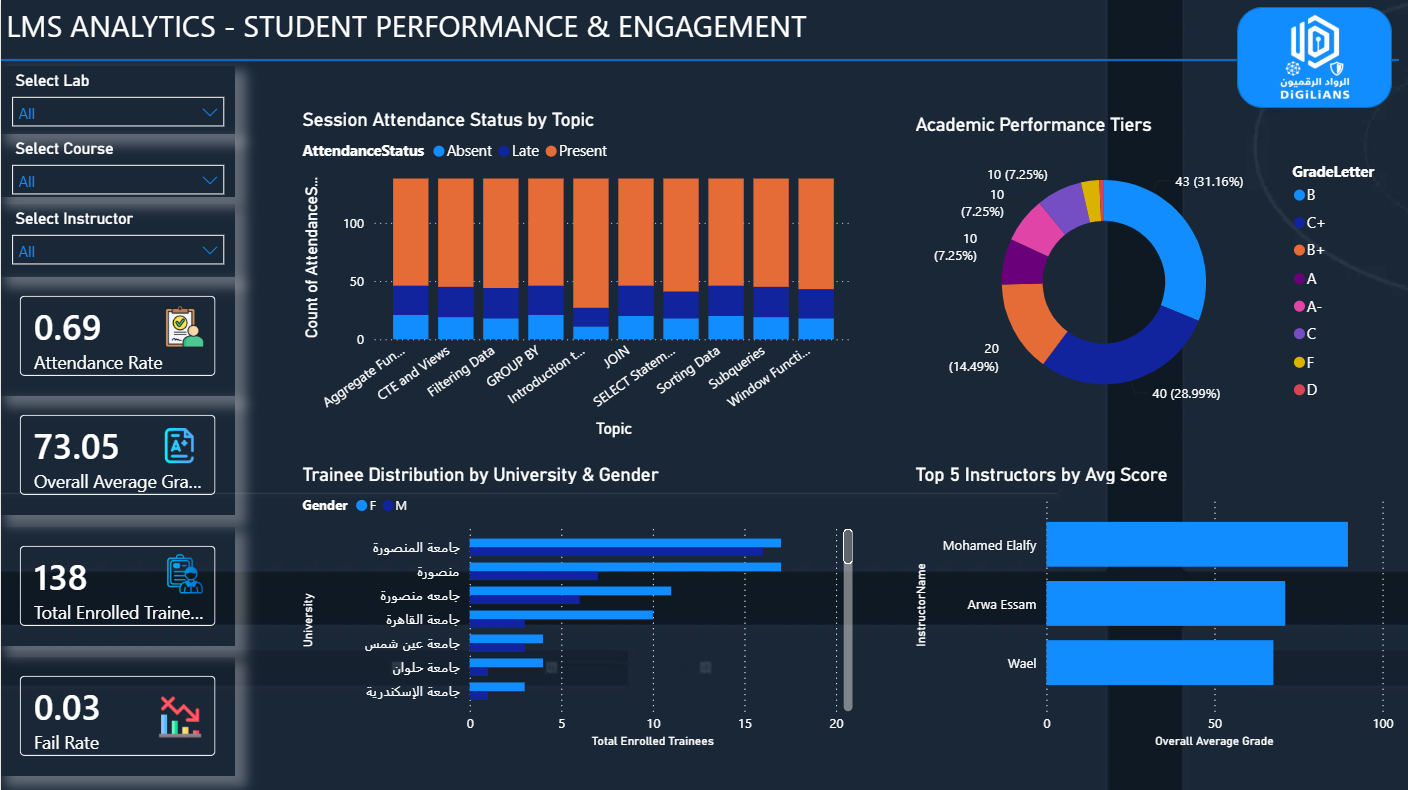

The page's visual inventory and layout, read from the dashboard file:
{"tool":"powerbi","page":{"name":"Digilians","canvas":[1280,720],"ordinal":0},"visuals":[{"type":"cardVisual","fields":{"Data":["v_TraineePerformance.Attendance Rate"]},"box":[0,251.4,212.5,107.7],"z":0},{"type":"cardVisual","fields":{"Data":["v_TraineePerformance.Overall Average Grade"]},"box":[0,360.2,212.5,107.7],"z":1000},{"type":"cardVisual","fields":{"Data":["v_TraineePerformance.Total Enrolled Trainees"]},"box":[0,478.9,212.5,107.7],"z":2000},{"type":"clusteredBarChart","title":"Trainee Distribution by University & Gender","fields":{"Series":["v_TraineePerformance.Gender"],"Category":["v_TraineePerformance.University"],"Y":["v_TraineePerformance.Total Enrolled Trainees"]},"box":[269.1,420.9,510,263.6],"z":3000},{"type":"donutChart","title":"Academic Performance Tiers ","fields":{"Y":["v_TraineePerformance.Total Enrolled Trainees"],"Category":["v_TraineePerformance.GradeLetter"]},"box":[826.4,98.2,444.5,292.7],"z":4000},{"type":"columnChart","title":"Session Attendance Status by Topic","fields":{"Category":["v_SessionAttendance.Topic"],"Y":["CountNonNull(v_SessionAttendance.AttendanceStatus)"],"Series":["v_SessionAttendance.AttendanceStatus"]},"box":[269.1,98.2,510,304.5],"z":5000},{"type":"clusteredBarChart","title":"Top 5 Instructors by Avg Score","fields":{"Category":["v_TraineePerformance.InstructorName"],"Y":["v_TraineePerformance.Overall Average Grade"]},"box":[826.4,420.9,444.5,263.6],"z":6000},{"type":"slicer","fields":{"Values":["v_SessionAttendance.CourseName"]},"box":[0,121.7,212.5,56.9],"z":7000},{"type":"slicer","fields":{"Values":["v_TraineePerformance.InstructorName"]},"box":[0,185.6,212.5,65.8],"z":8000},{"type":"slicer","fields":{"Values":["v_TraineePerformance.LabCode"]},"box":[0,59.9,212.5,61.9],"z":9000},{"type":"cardVisual","fields":{"Data":["v_TraineePerformance.Fail Rate"]},"box":[0,597.6,212.5,107.7],"z":10000},{"type":"shape","box":[0,40,1270.9,29.1],"z":11000},{"type":"textbox","box":[0,0,739.1,54.5],"z":12000},{"type":"image","box":[106.1,277.2,121.7,38.9],"z":13000},{"type":"image","box":[79.4,388.9,165.6,32.2],"z":14000},{"type":"image","box":[127.2,502.8,79.4,38.3],"z":15000},{"type":"image","box":[141.7,631.7,41.1,40],"z":16000},{"type":"shape","box":[1123.6,6.4,140.9,91.8],"z":17001},{"type":"image","box":[1116.4,6.4,156.4,98.2],"z":17002}]}

Visuals, with their boxes in screenshot pixels (x1, y1, x2, y2), scaled from the page's 1280x720 canvas onto the 1408x790 screenshot:
cardVisual - v_TraineePerformance.Attendance Rate: (left=0, top=276, right=234, bottom=394)
cardVisual - v_TraineePerformance.Overall Average Grade: (left=0, top=395, right=234, bottom=513)
cardVisual - v_TraineePerformance.Total Enrolled Trainees: (left=0, top=525, right=234, bottom=644)
"Trainee Distribution by University & Gender" clusteredBarChart: (left=296, top=462, right=857, bottom=751)
"Academic Performance Tiers " donutChart: (left=909, top=108, right=1398, bottom=429)
"Session Attendance Status by Topic" columnChart: (left=296, top=108, right=857, bottom=442)
"Top 5 Instructors by Avg Score" clusteredBarChart: (left=909, top=462, right=1398, bottom=751)
slicer - v_SessionAttendance.CourseName: (left=0, top=134, right=234, bottom=196)
slicer - v_TraineePerformance.InstructorName: (left=0, top=204, right=234, bottom=276)
slicer - v_TraineePerformance.LabCode: (left=0, top=66, right=234, bottom=134)
cardVisual - v_TraineePerformance.Fail Rate: (left=0, top=656, right=234, bottom=774)
shape: (left=0, top=44, right=1398, bottom=76)
textbox: (left=0, top=0, right=813, bottom=60)
image: (left=117, top=304, right=251, bottom=347)
image: (left=87, top=427, right=270, bottom=462)
image: (left=140, top=552, right=227, bottom=594)
image: (left=156, top=693, right=201, bottom=737)
shape: (left=1236, top=7, right=1391, bottom=108)
image: (left=1228, top=7, right=1400, bottom=115)
